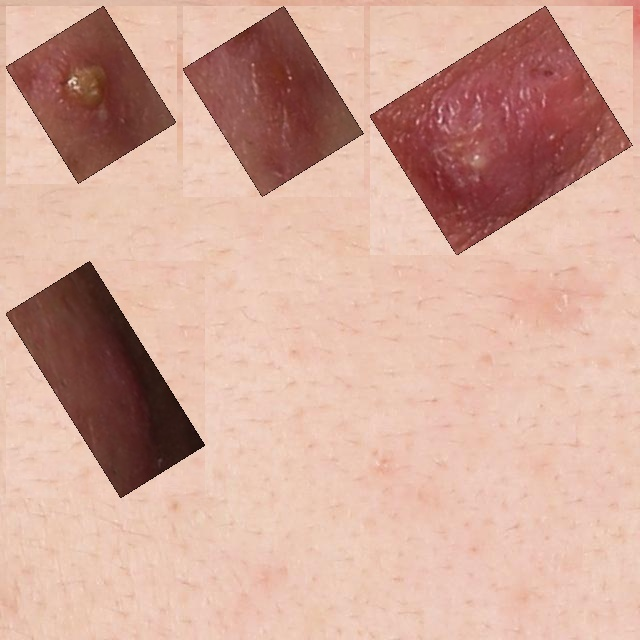nodule: (381, 17, 621, 244), (17, 272, 194, 486), (194, 17, 352, 185), (17, 17, 165, 172)
